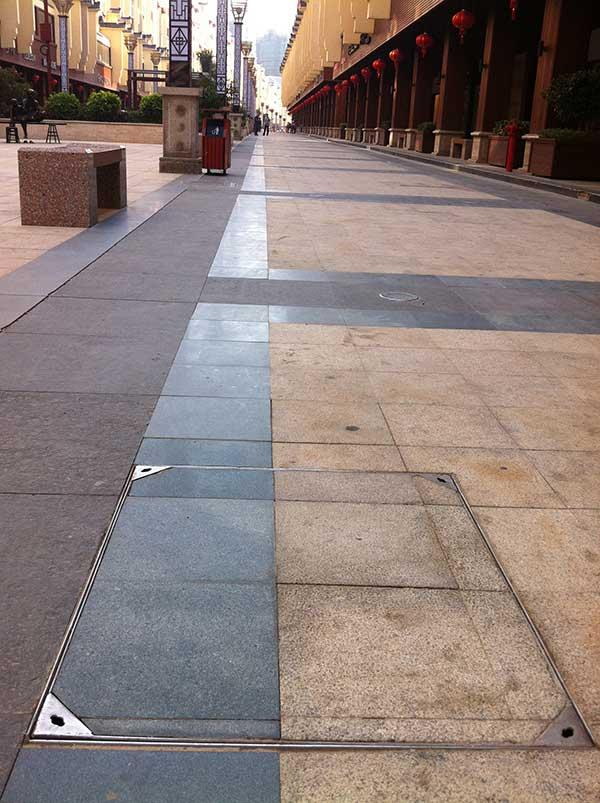wellcover: (16, 439, 600, 759)
